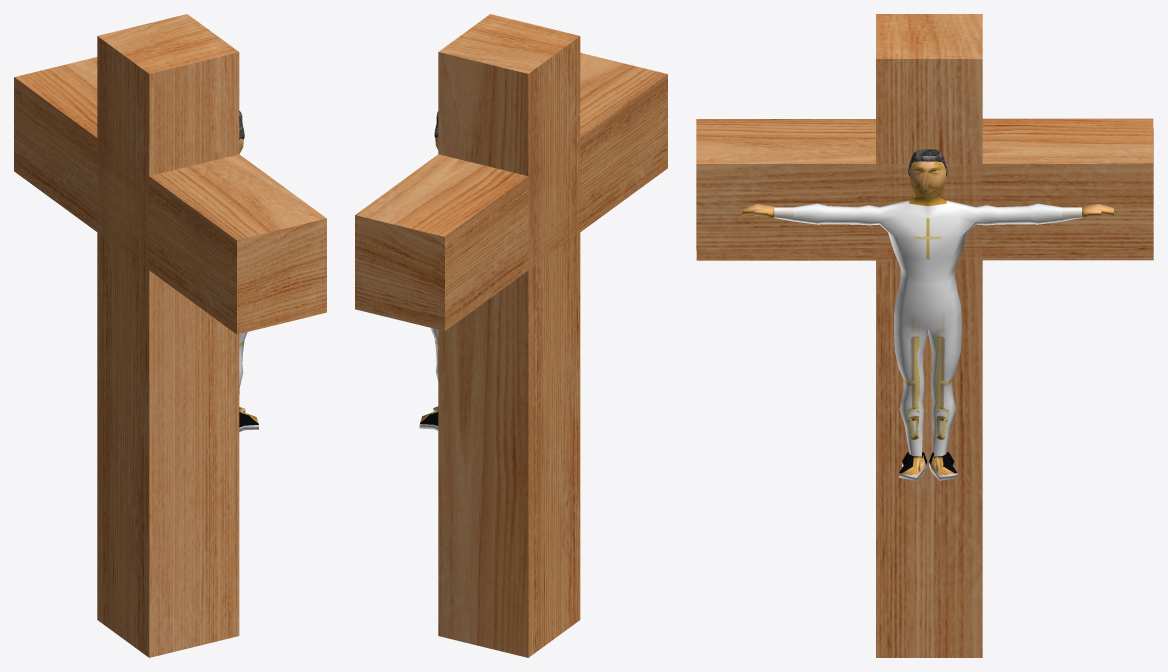
Rendered from papajkrzyz3.fbx.
3 renders of one model, left to right at view 1: azimuth 30°, elevation 25°; view 2: azimuth 150°, elevation 25°; view 3: azimuth 270°, elevation 25°, orthographic. The views are drawn at different scales.
Parts seen in each view (by area): view 1: Kawux.001; view 2: Kawux.001; view 3: Kawux.001.
Boxes of the visible parts, x1,y1,x2,y2 form: Kawux.001: (14,14,326,657); Kawux.001: (355,14,667,657); Kawux.001: (696,14,1153,657).
Bounding box in the file's own units: 282 × 1240 × 858.
9 materials, 8 textured.
